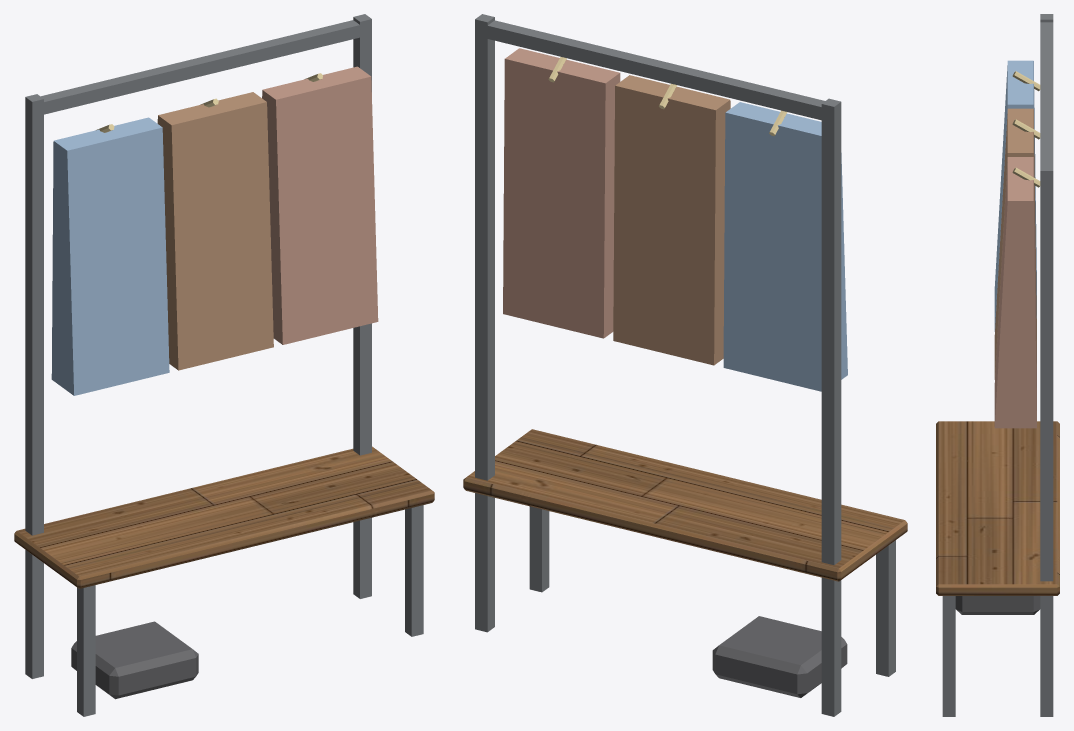
File: coat_bench.glb
3 renders of one model, left to right at view 1: azimuth 30°, elevation 25°; view 2: azimuth 150°, elevation 25°; view 3: azimuth 270°, elevation 25°, orthographic. The views are drawn at different scales.
Visible parts, largest first — view 1: coat_bench_cloth_b, coat_bench_leather, coat_bench_fabric3, coat_bench_timber, coat_bench_steel_d, coat_bench_dark; view 2: coat_bench_steel_d, coat_bench_fabric3, coat_bench_leather, coat_bench_timber, coat_bench_cloth_b, coat_bench_dark; view 3: coat_bench_timber, coat_bench_steel_d, coat_bench_fabric3, coat_bench_leather, coat_bench_cloth_b, coat_bench_dark, coat_bench_brass.
Boxes of the visible parts, x1=… form: coat_bench_cloth_b: x1=51, y1=117, x2=169, y2=395; coat_bench_leather: x1=157, y1=92, x2=273, y2=370; coat_bench_fabric3: x1=262, y1=66, x2=378, y2=344; coat_bench_timber: x1=14, y1=446, x2=434, y2=588; coat_bench_steel_d: x1=25, y1=14, x2=423, y2=716; coat_bench_dark: x1=71, y1=621, x2=198, y2=699; coat_bench_steel_d: x1=475, y1=14, x2=895, y2=716; coat_bench_fabric3: x1=503, y1=48, x2=620, y2=338; coat_bench_leather: x1=613, y1=75, x2=730, y2=365; coat_bench_timber: x1=463, y1=429, x2=907, y2=581; coat_bench_cloth_b: x1=723, y1=102, x2=847, y2=391; coat_bench_dark: x1=712, y1=616, x2=847, y2=697; coat_bench_timber: x1=936, y1=421, x2=1059, y2=595; coat_bench_steel_d: x1=942, y1=14, x2=1053, y2=716; coat_bench_fabric3: x1=994, y1=157, x2=1036, y2=428; coat_bench_leather: x1=994, y1=108, x2=1036, y2=379; coat_bench_cloth_b: x1=994, y1=60, x2=1036, y2=331; coat_bench_dark: x1=955, y1=596, x2=1040, y2=614; coat_bench_brass: x1=1012, y1=71, x2=1040, y2=187.
Size of the model in its own units: 1.2 by 1.85 by 0.38.
Materials: 7 (1 with a texture image).
